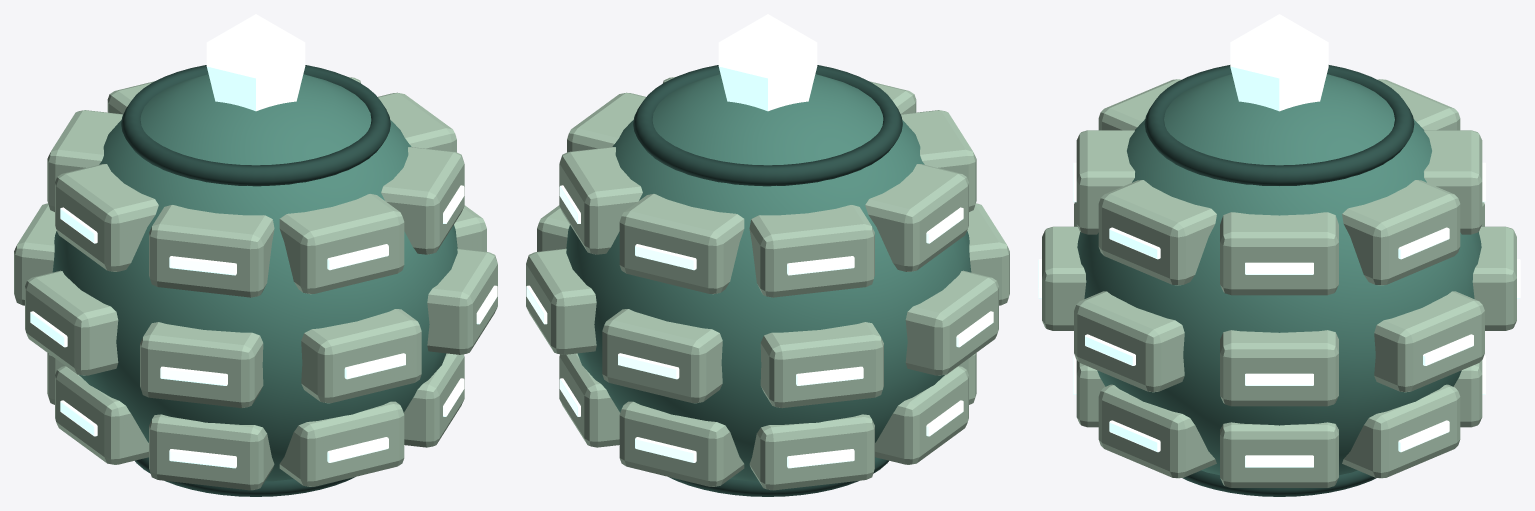
Rendered from project-knowledge.glb.
The picture shows the model from 3 angles, left to right: view 1: azimuth 30°, elevation 25°; view 2: azimuth 150°, elevation 25°; view 3: azimuth 270°, elevation 25°; orthographic projection.
Visible parts, largest first — view 1: body_ceramic.003, body_hull.003, body_light.003, body_dark.003; view 2: body_ceramic.003, body_hull.003, body_light.003, body_dark.003; view 3: body_ceramic.003, body_hull.003, body_light.003, body_dark.003.
Boxes of the visible parts, x1,y1,x2,y2 form: body_ceramic.003: [14, 77, 497, 490]; body_hull.003: [52, 74, 457, 481]; body_light.003: [30, 14, 497, 468]; body_dark.003: [121, 65, 390, 496]; body_ceramic.003: [526, 77, 1009, 490]; body_hull.003: [566, 74, 971, 481]; body_light.003: [526, 14, 993, 468]; body_dark.003: [633, 65, 902, 496]; body_ceramic.003: [1042, 79, 1516, 487]; body_hull.003: [1077, 74, 1481, 475]; body_light.003: [1038, 14, 1520, 467]; body_dark.003: [1144, 65, 1414, 496].
Size of the model in its own units: 1.78 by 1.86 by 1.78.
